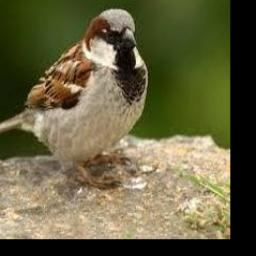Sparrow: (0, 8, 148, 190)
